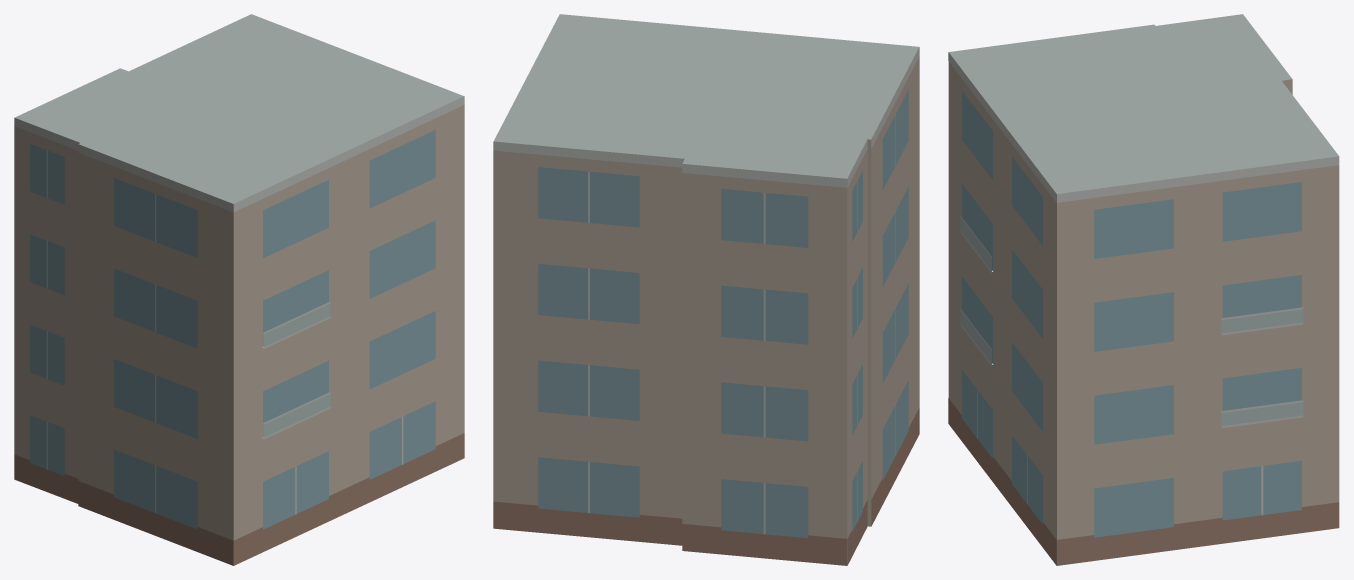
The model's file is survey-upis-32609037.glb.
3 renders of one model, left to right at view 1: azimuth 30°, elevation 25°; view 2: azimuth 150°, elevation 25°; view 3: azimuth 270°, elevation 25°, orthographic. The views are drawn at different scales.
Visible parts, largest first — view 1: survey-upis-32609037.tmp; view 2: survey-upis-32609037.tmp; view 3: survey-upis-32609037.tmp.
Boxes of the visible parts, box(x1,y1,x2,y2) form: survey-upis-32609037.tmp: box(14, 14, 464, 565); survey-upis-32609037.tmp: box(493, 14, 919, 565); survey-upis-32609037.tmp: box(948, 14, 1339, 565).
Size of the model in its own units: 10.82 by 10.4 by 9.92.
